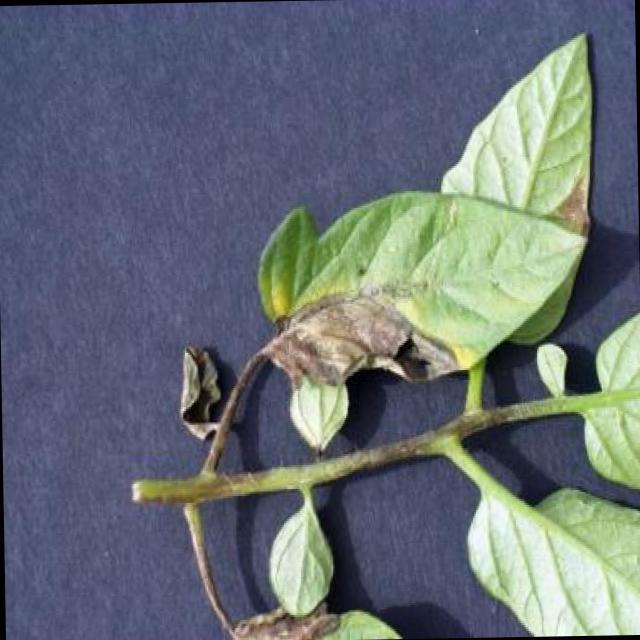Healthy Leaf: (264, 492, 336, 614)
